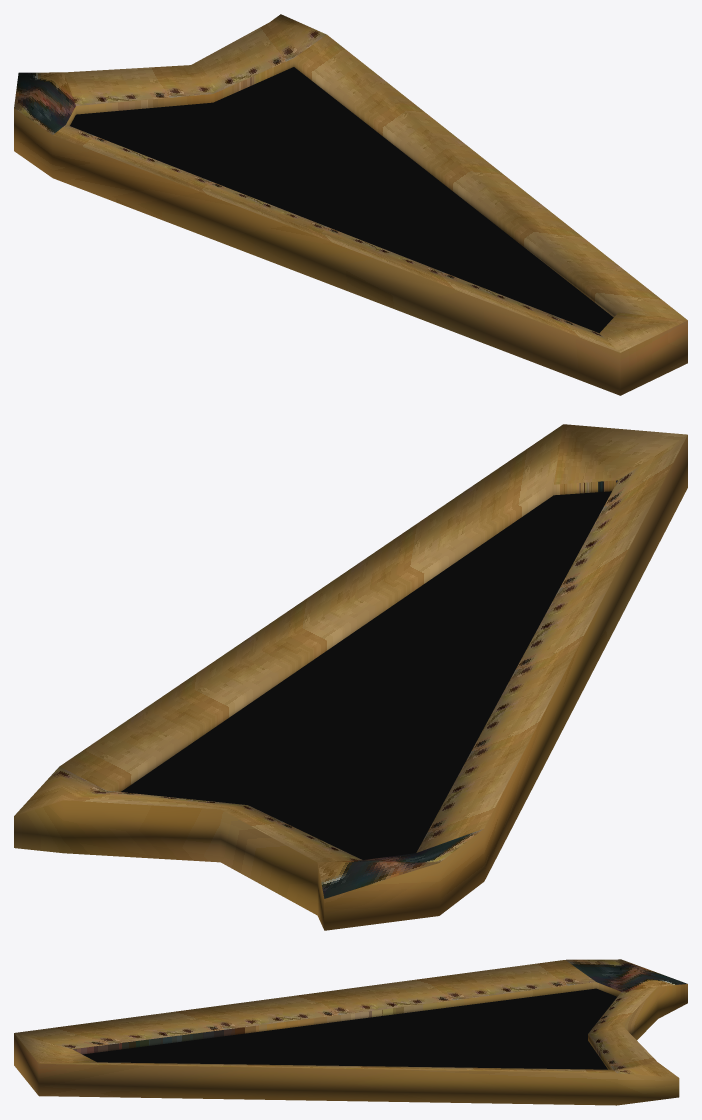
File: ITMI_IE_HARFE.glb
3 views of the same model, one above another, from view 1: azimuth 30°, elevation 25°; view 2: azimuth 150°, elevation 25°; view 3: azimuth 270°, elevation 25° (orthographic). The views are drawn at different scales.
Parts seen in each view (by area): view 1: Mesh; view 2: Mesh; view 3: Mesh.
Boxes of the visible parts, x1=… form: Mesh: x1=14, y1=14, x2=687, y2=395; Mesh: x1=14, y1=424, x2=687, y2=930; Mesh: x1=14, y1=959, x2=687, y2=1105.
Bounding box in the file's own units: 0.3641 × 0.0496 × 0.9108.
2 materials, 2 textured.
